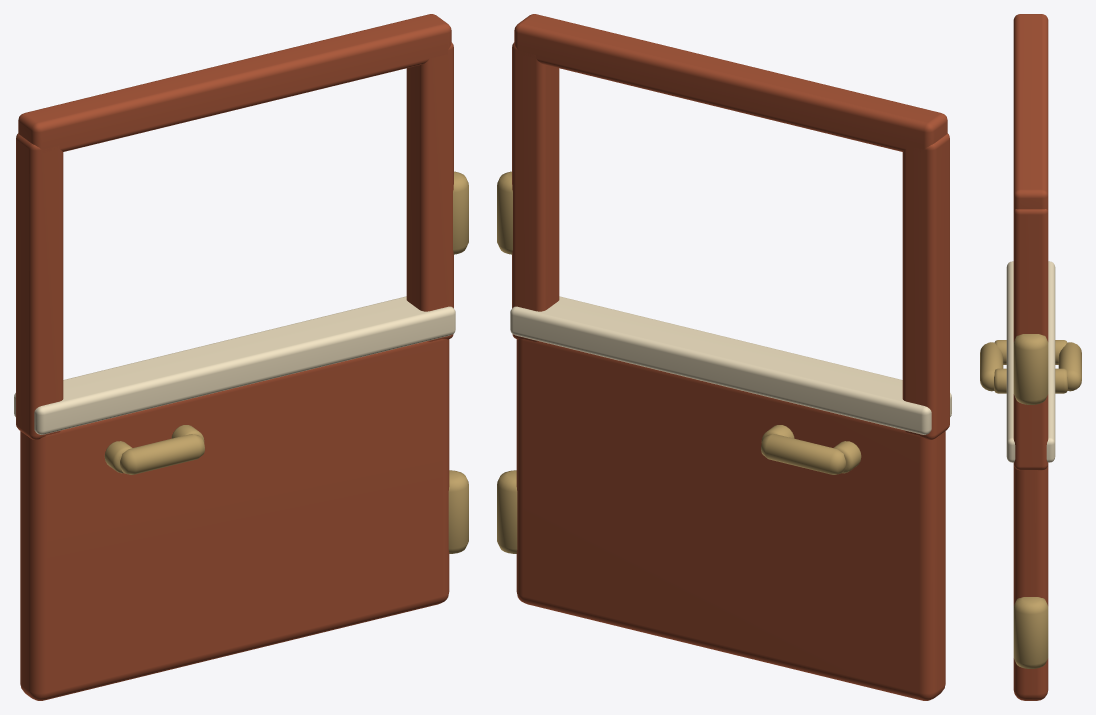
File: v17_train_door.glb
3 views of the same model, side by side, from view 1: azimuth 30°, elevation 25°; view 2: azimuth 150°, elevation 25°; view 3: azimuth 270°, elevation 25° (orthographic). The views are drawn at different scales.
Visible parts, largest first — view 1: V15_RedPaint.001, V15_CreamPaint.001, V15_BrushedBrass.001; view 2: V15_RedPaint.001, V15_CreamPaint.001, V15_BrushedBrass.001; view 3: V15_RedPaint.001, V15_BrushedBrass.001, V15_CreamPaint.001.
Boxes of the visible parts, box(x1,y1,x2,y2) form: V15_RedPaint.001: box(16, 14, 453, 700); V15_CreamPaint.001: box(14, 296, 455, 434); V15_BrushedBrass.001: box(104, 171, 468, 553); V15_RedPaint.001: box(512, 14, 949, 700); V15_CreamPaint.001: box(510, 296, 951, 434); V15_BrushedBrass.001: box(497, 171, 861, 553); V15_RedPaint.001: box(1013, 14, 1048, 700); V15_BrushedBrass.001: box(980, 334, 1081, 668); V15_CreamPaint.001: box(1006, 261, 1055, 462).
Size of the model in its own units: 0.4655 by 0.5825 by 0.105.
